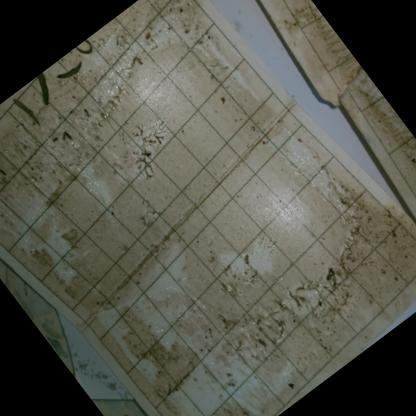prays_oleae: (60, 124, 79, 146), (0, 161, 13, 183)
